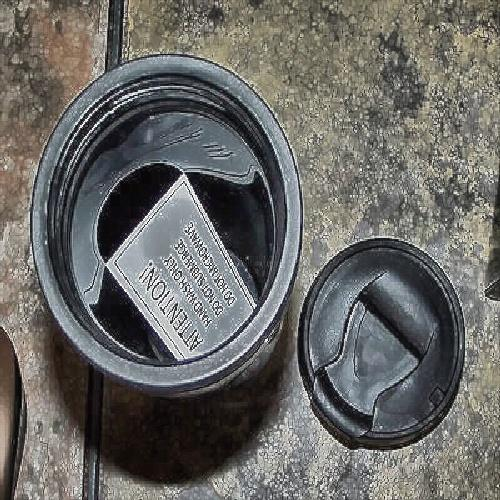mug: (33, 57, 299, 412), (283, 236, 471, 460)
